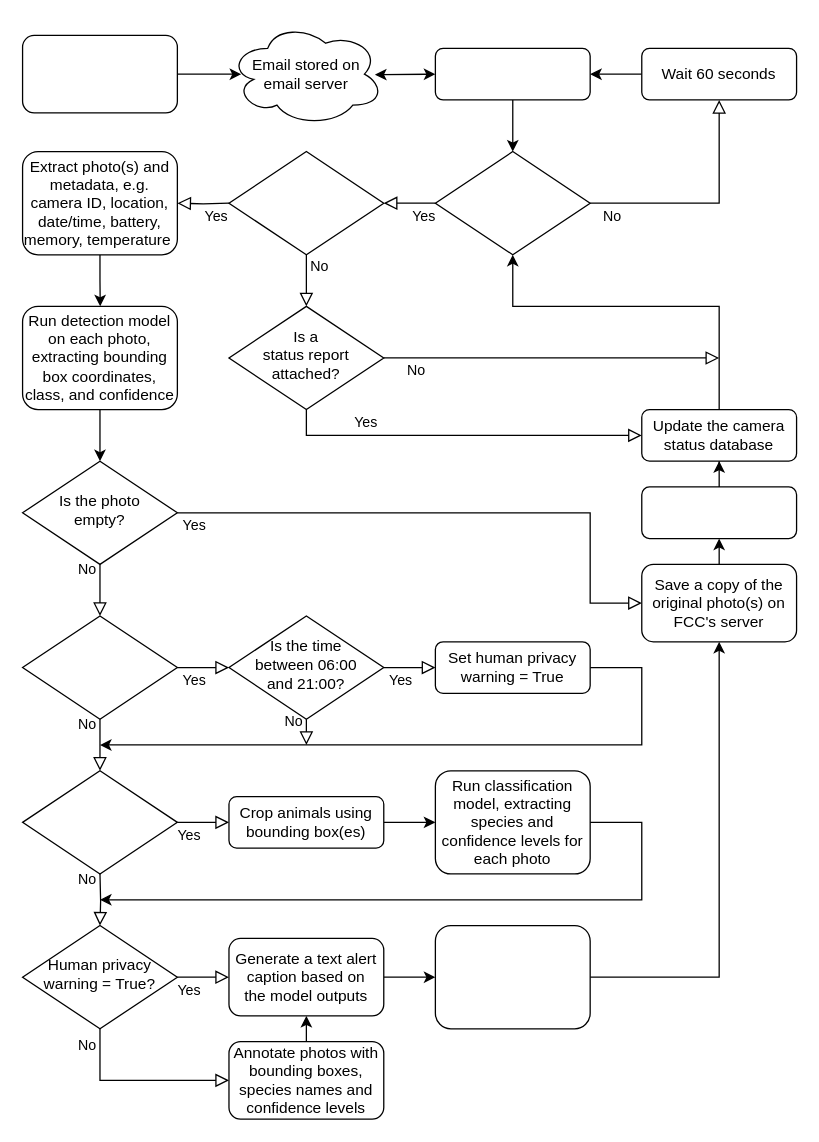
The diagram is 819 pixels wide and 1142 high, and some of its shapes have lost their labels. Each missing label, with the box of its shape:
Any animal detections?: (21, 769, 177, 874)
Any human or vehicle detections?: (21, 615, 177, 719)
Are photo(s) attached?: (228, 150, 384, 255)
Check for new emails: (434, 47, 590, 100)
Motion triggers camera trap, which emails photo(s) to dedicated inbox: (21, 34, 177, 113)
New email received?: (434, 150, 590, 255)
Send text alert and annotated photo(s) (if applicable) to the Telegram group: (434, 924, 590, 1029)
Update the capture database: (640, 486, 797, 539)
